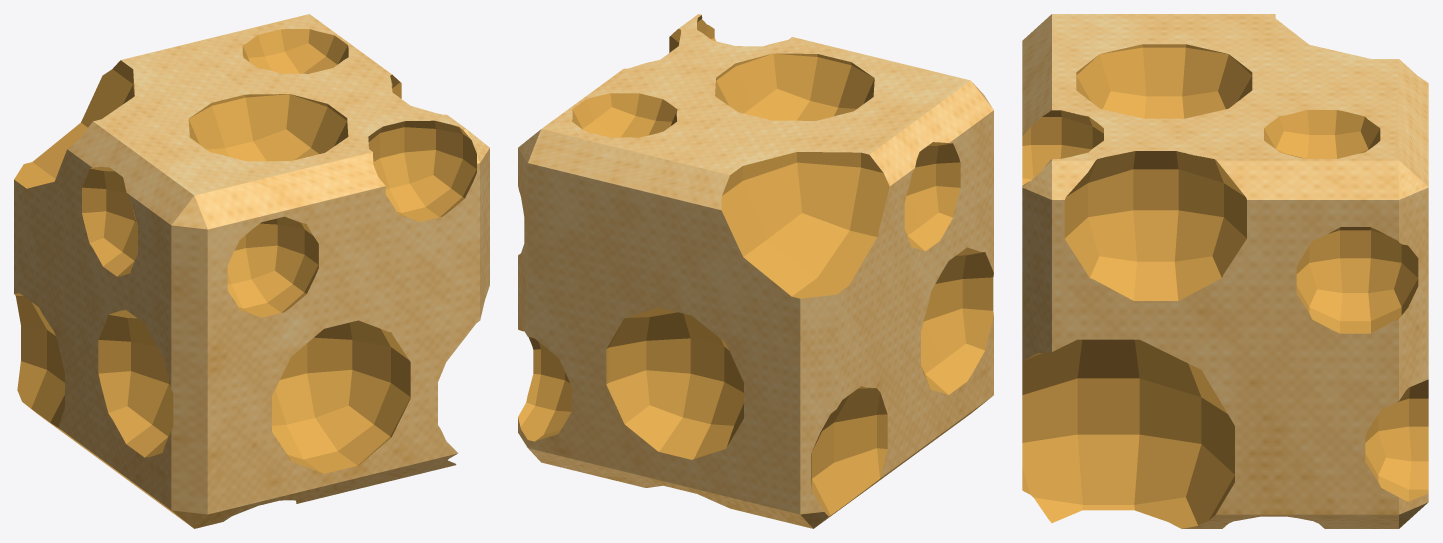
Rendered from cheese_stage1.fbx.
3 views of the same model, side by side, from view 1: azimuth 30°, elevation 25°; view 2: azimuth 150°, elevation 25°; view 3: azimuth 270°, elevation 25° (orthographic). The views are drawn at different scales.
Parts seen in each view (by area): view 1: Cheese; view 2: Cheese; view 3: Cheese.
Part boxes in pixels (bbox=[...]): Cheese: bbox=[14, 14, 489, 528]; Cheese: bbox=[518, 14, 993, 528]; Cheese: bbox=[1022, 14, 1428, 528].
Bounding box in the file's own units: 553 × 553 × 553.
